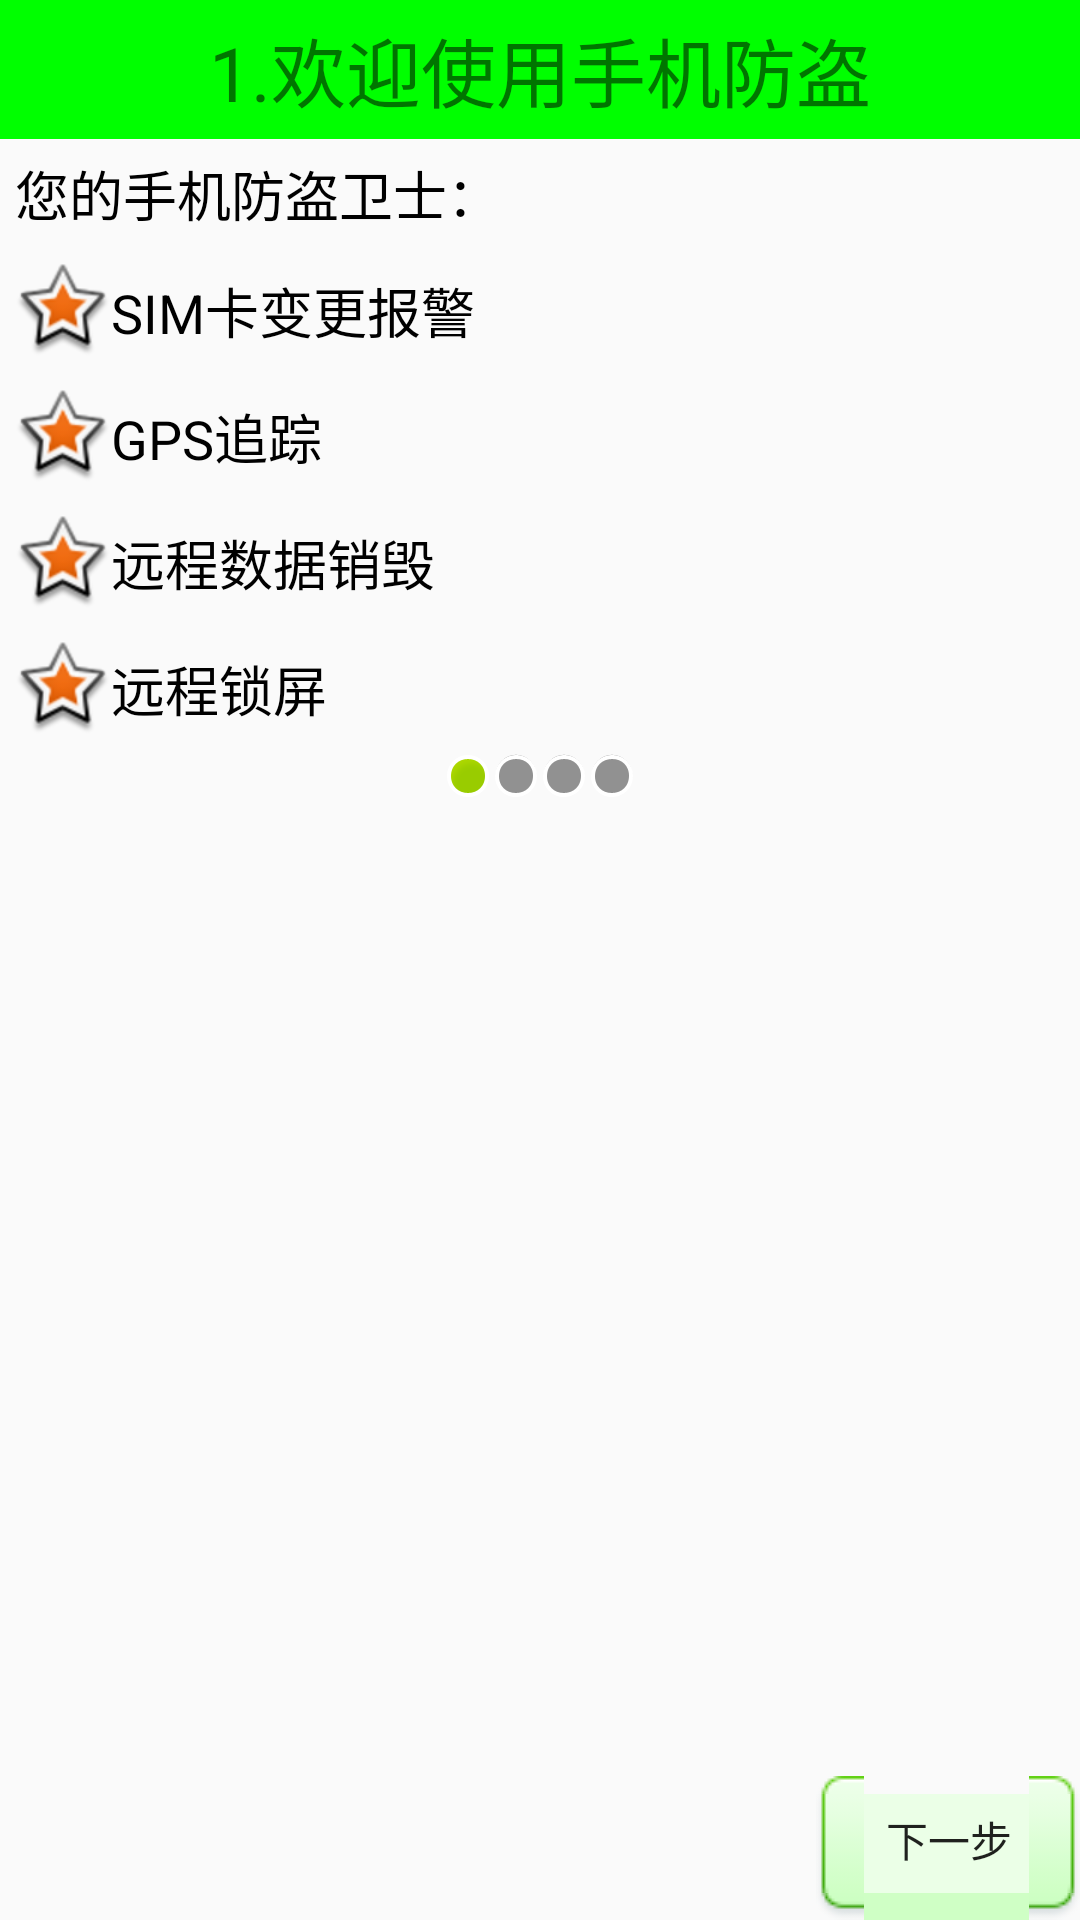

Icons on this 1080*1920 Android screen, each with its box as rect(x1, y1, x2, y2):
presence invisible: rect(499, 755, 533, 793), rect(547, 755, 581, 793), rect(595, 755, 629, 793)
presence online: rect(451, 759, 485, 793)
